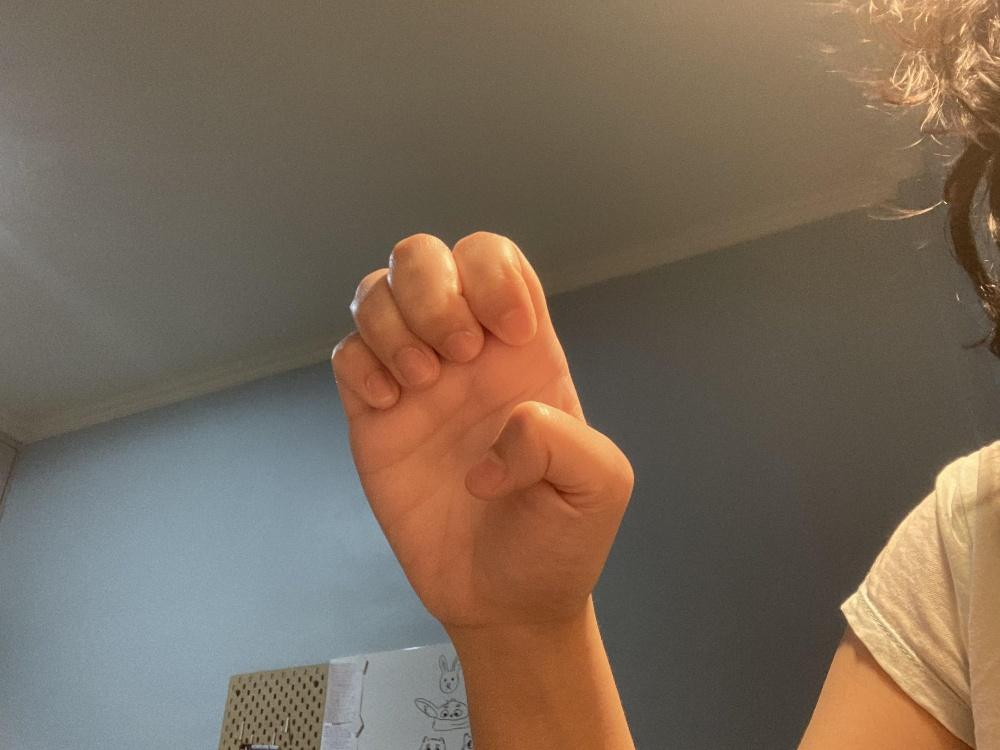e: (330, 229, 634, 622)
